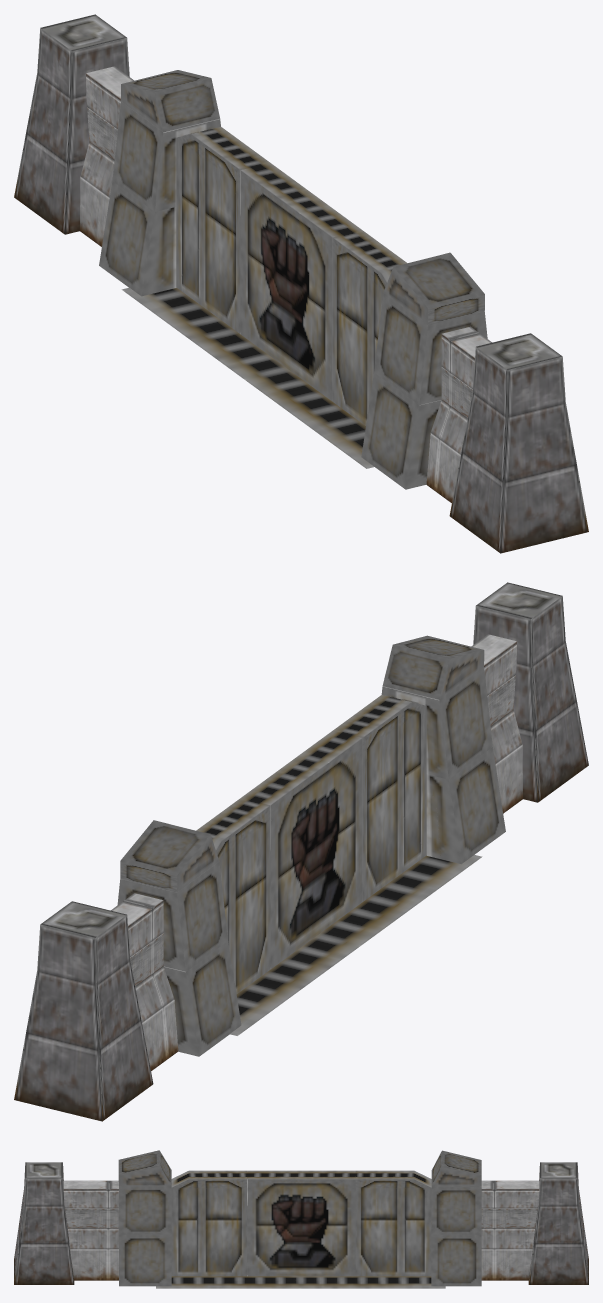
The model's file is s_mediumgate.glb.
3 renders of one model, top to bottom at view 1: azimuth 30°, elevation 25°; view 2: azimuth 150°, elevation 25°; view 3: azimuth 270°, elevation 25°, orthographic. The views are drawn at different scales.
Visible parts, largest first — view 1: S_MediumGate, S_MediumGateDoor; view 2: S_MediumGate, S_MediumGateDoor; view 3: S_MediumGate, S_MediumGateDoor.
Part boxes in pixels (x1,y1,x2,y2): S_MediumGate: (14,14,588,553); S_MediumGateDoor: (176,127,407,425); S_MediumGate: (14,582,588,1121); S_MediumGateDoor: (196,695,426,993); S_MediumGate: (14,1150,588,1288); S_MediumGateDoor: (171,1170,431,1276).
Bounding box in the file's own units: 7.85 × 12.54 × 57.19.
2 materials, 2 textured.
